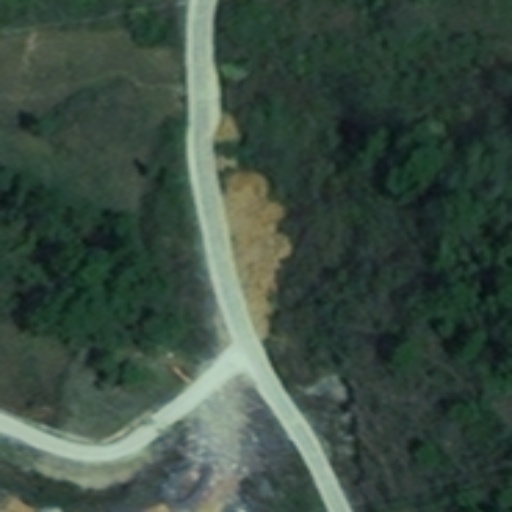landslide: (220, 169, 292, 343)
